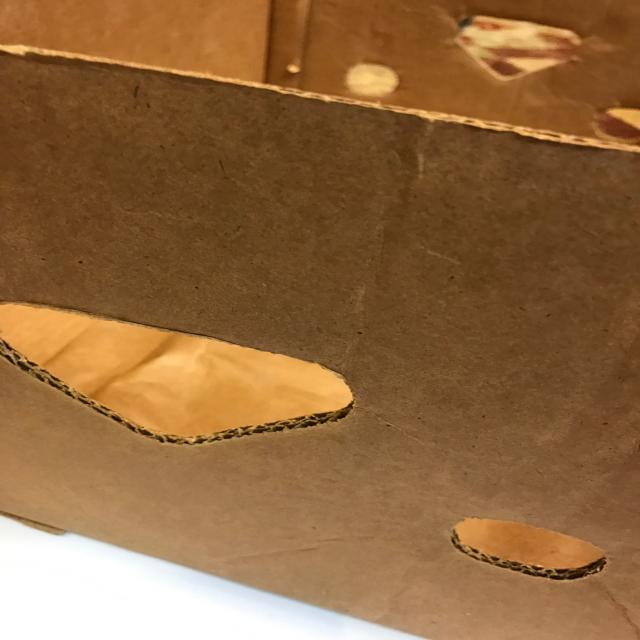cardboard: (1, 42, 639, 638)
